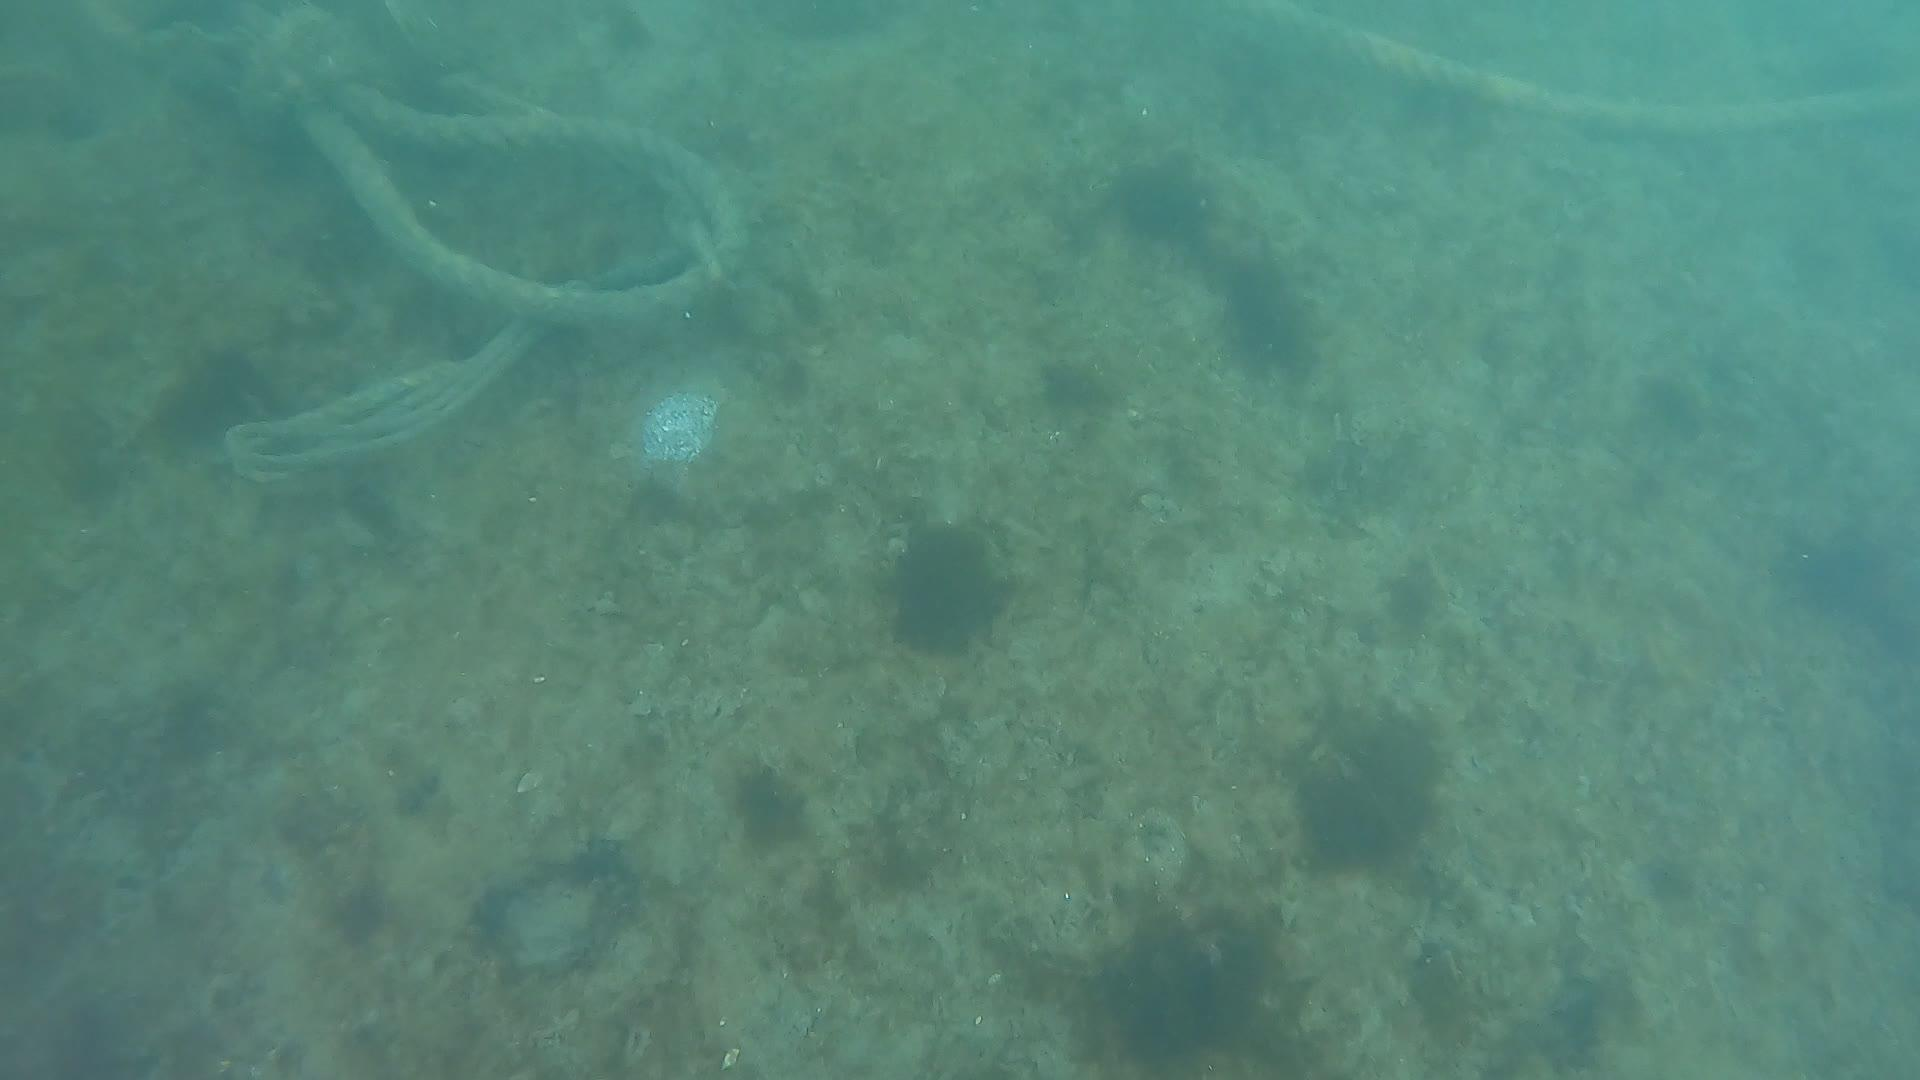bundle of ropes: (71, 0, 752, 480)
